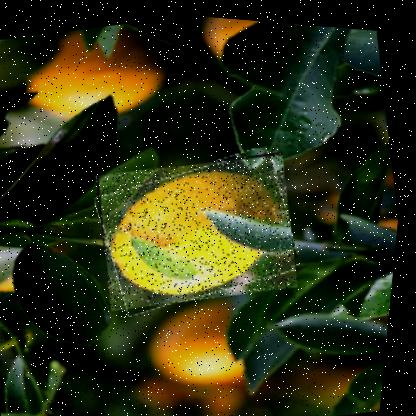lemon: (87, 134, 312, 320)
